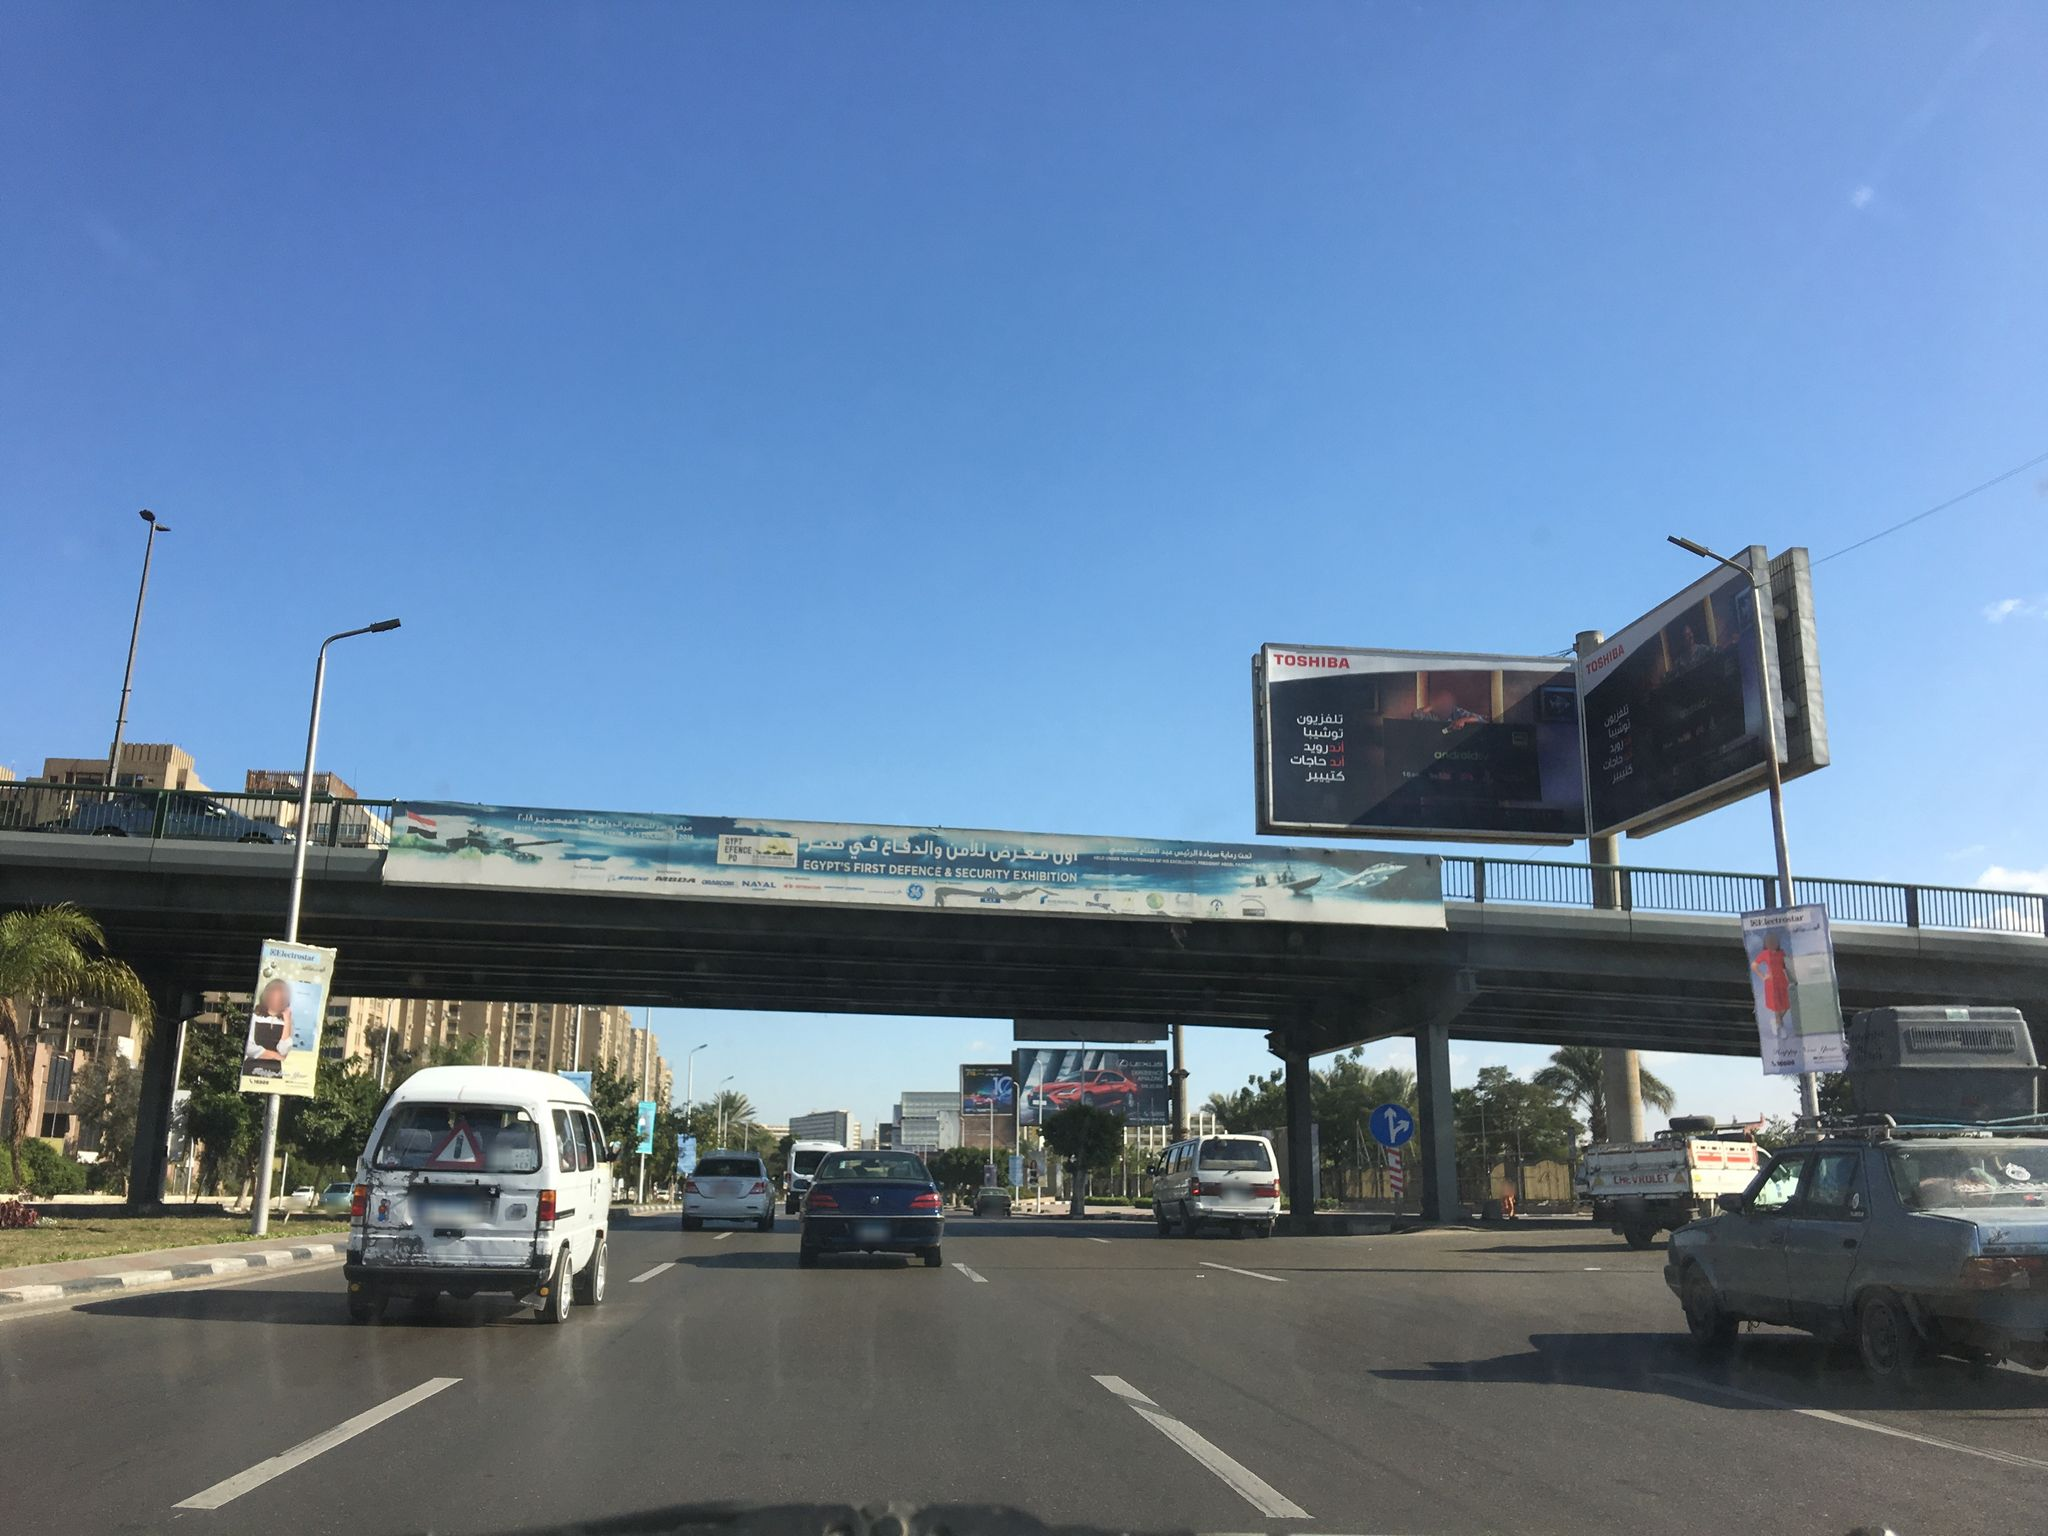car: (1664, 1108, 2048, 1381), (345, 1063, 627, 1333), (793, 1149, 947, 1265), (1147, 1133, 1282, 1234), (681, 1149, 779, 1229), (784, 1139, 845, 1217), (971, 1186, 1011, 1217), (319, 1183, 356, 1212), (290, 1184, 314, 1199)
truck: (1580, 1117, 1808, 1246)
